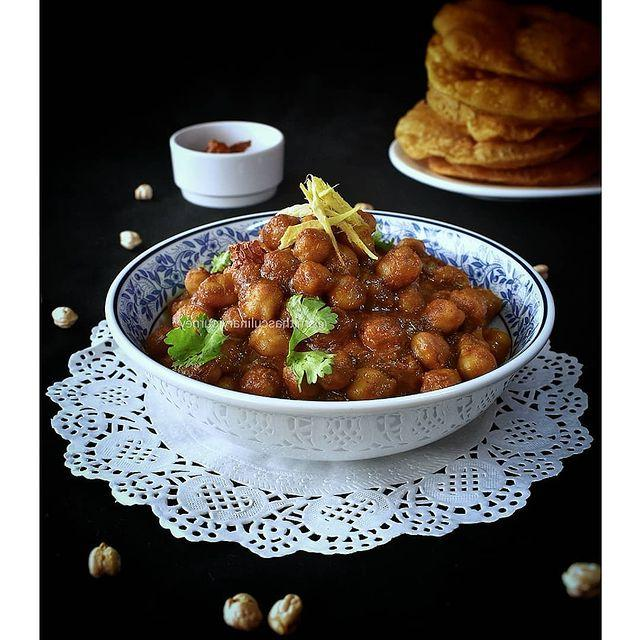Chole: (142, 215, 502, 402)
